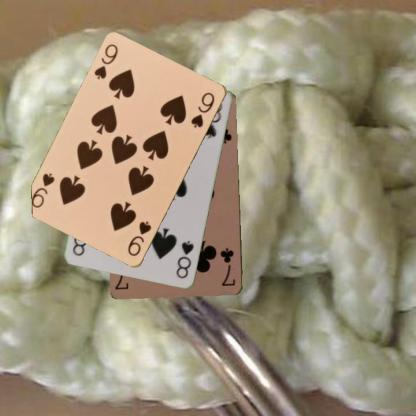7c: (218, 245, 237, 288)
8s: (173, 238, 196, 280)
9s: (91, 42, 120, 82), (125, 218, 153, 258)
